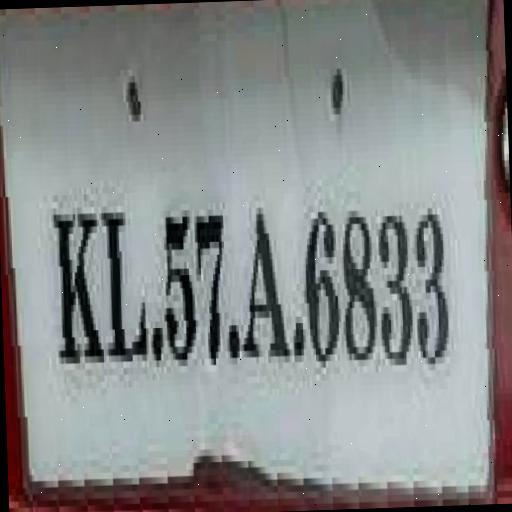number plate: (0, 4, 497, 475)
